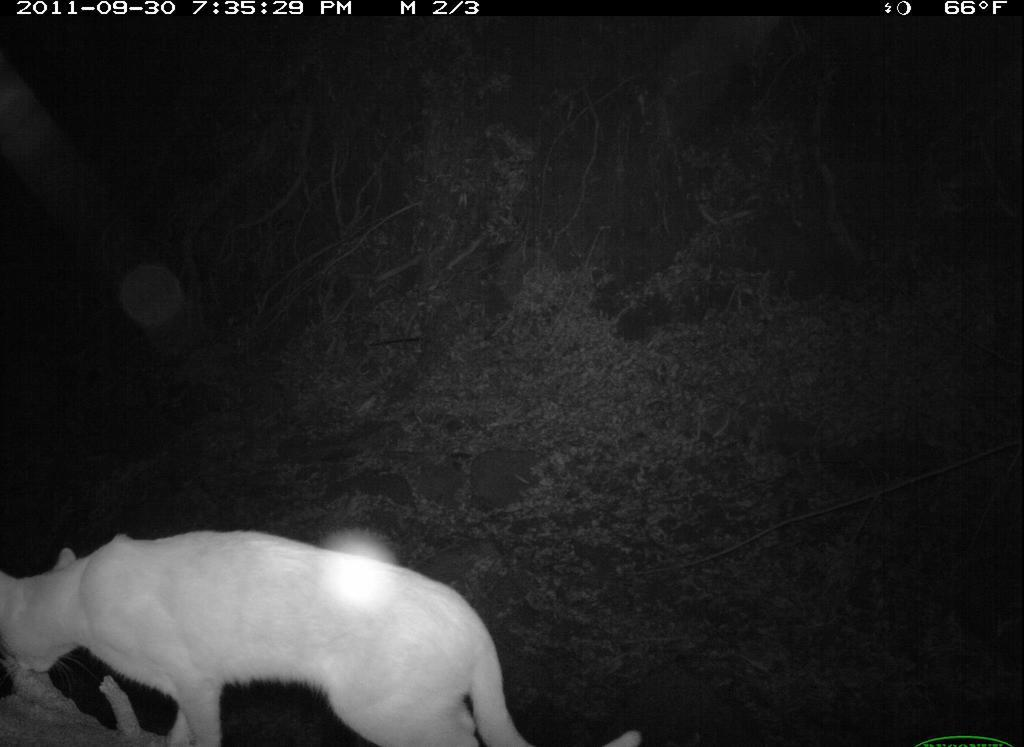cat: (2, 528, 646, 747)
